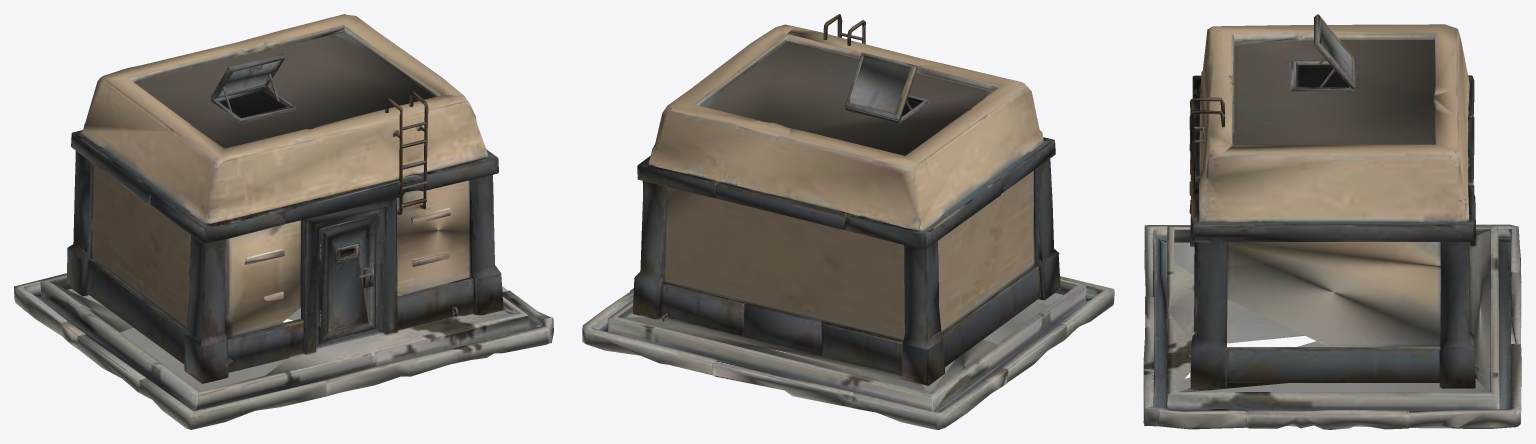
The model's file is lockup.glb.
The picture shows the model from 3 angles, left to right: view 1: azimuth 30°, elevation 25°; view 2: azimuth 150°, elevation 25°; view 3: azimuth 270°, elevation 25°; orthographic projection. The views are drawn at different scales.
Bounding box in the file's own units: 0.9536 × 0.6728 × 0.7969.
1 material, 1 textured.
